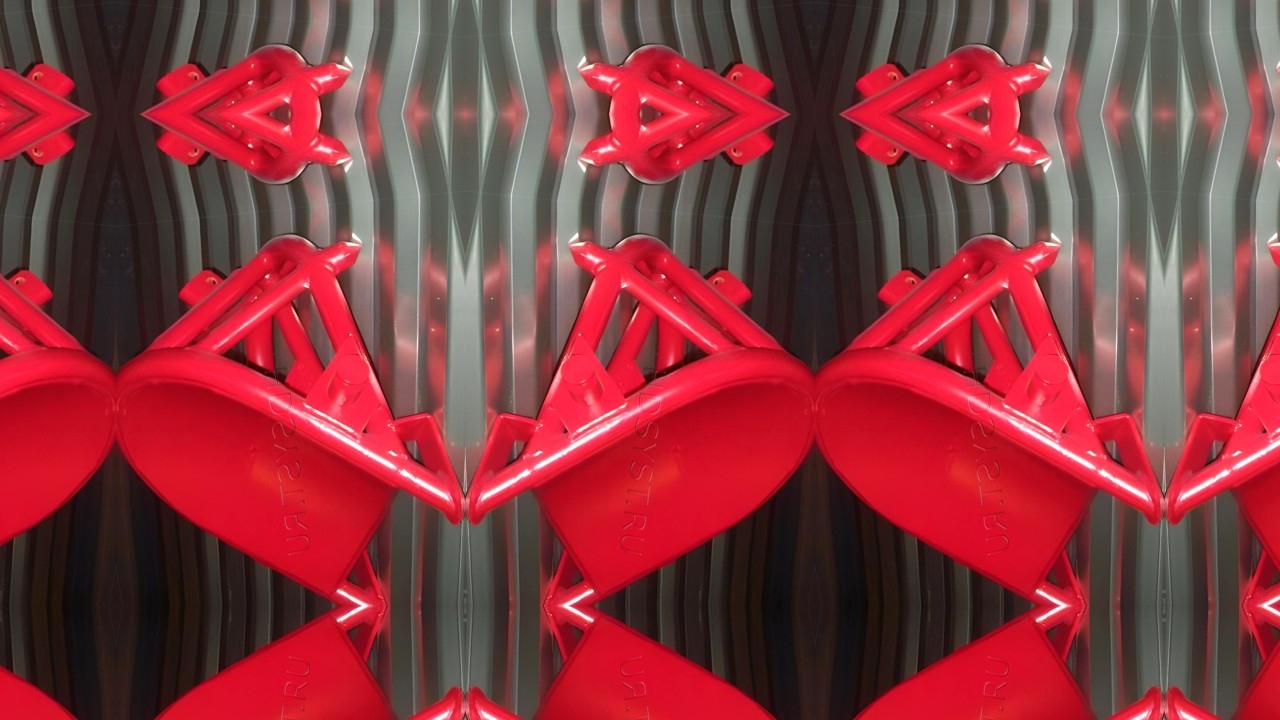chock: (115, 131, 465, 606), (465, 131, 815, 606), (815, 131, 1165, 606), (0, 131, 115, 606), (1165, 131, 1280, 606), (115, 606, 465, 720), (465, 606, 815, 720), (815, 606, 1165, 720), (115, 0, 465, 97), (465, 0, 815, 97), (815, 0, 1165, 97)
